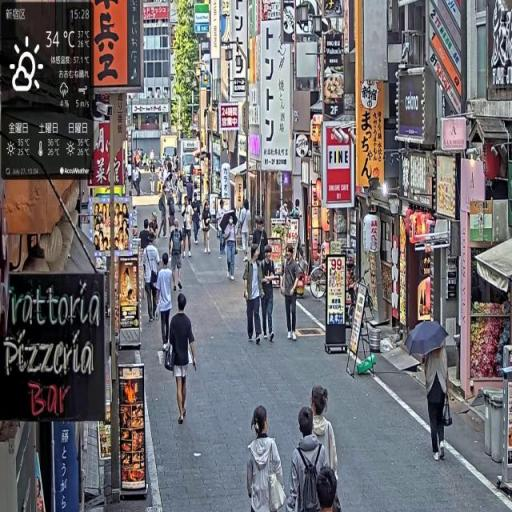person: (286, 406, 333, 512), (168, 291, 199, 428), (247, 405, 286, 512), (424, 347, 453, 465), (309, 385, 340, 480), (281, 243, 306, 342), (243, 246, 266, 343), (261, 244, 280, 344), (158, 254, 175, 362), (170, 217, 186, 296), (224, 211, 239, 281), (183, 197, 195, 260), (202, 200, 213, 254), (159, 188, 170, 240)
